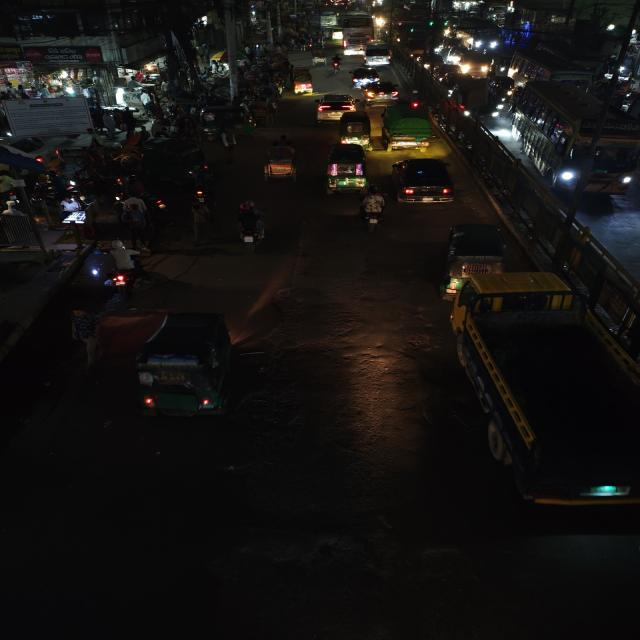bus: (512, 82, 631, 194), (520, 50, 595, 94), (342, 11, 374, 55), (462, 19, 503, 52)
car: (389, 156, 461, 210), (316, 92, 358, 122), (359, 80, 398, 106), (453, 48, 487, 76), (363, 43, 397, 67), (353, 65, 378, 87)
cng: (124, 314, 239, 423), (445, 224, 511, 277), (324, 143, 372, 195), (150, 140, 208, 183), (337, 111, 374, 149)
motorcycle: (103, 238, 143, 308), (231, 198, 269, 259), (354, 186, 389, 234), (330, 54, 345, 76)
pedestrian: (59, 307, 109, 386), (185, 197, 211, 246), (219, 126, 246, 160)
pickup_van: (445, 280, 640, 523), (377, 106, 441, 152)
rickshaw: (257, 138, 305, 188), (250, 95, 283, 128), (293, 66, 316, 100), (308, 45, 328, 66)
